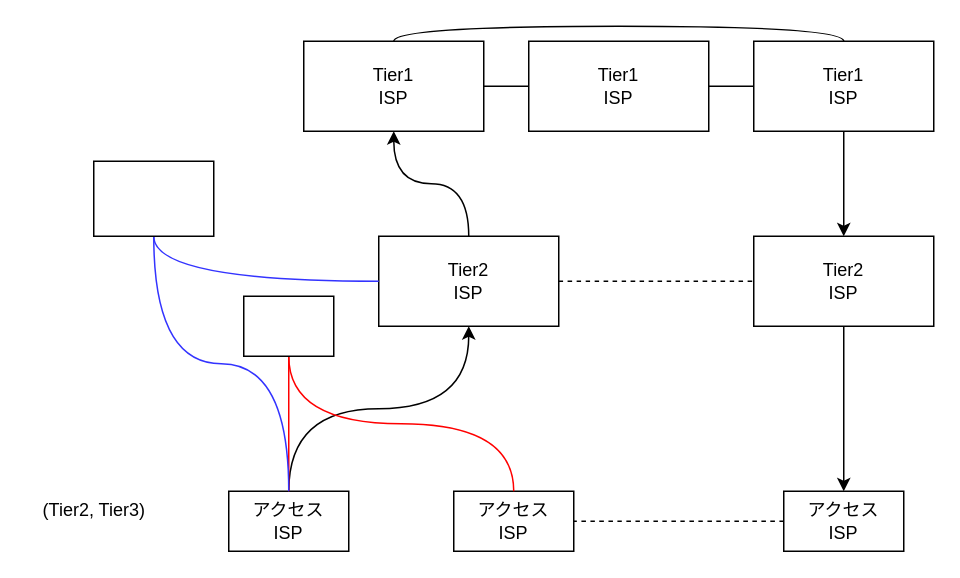
This 960x578 diagram has some shape labels left out. The centre of each missing label's shape, as x and y in pixels:
"Hyper Giants" belongs at [153,198].
"IXP" belongs at [288,325].
